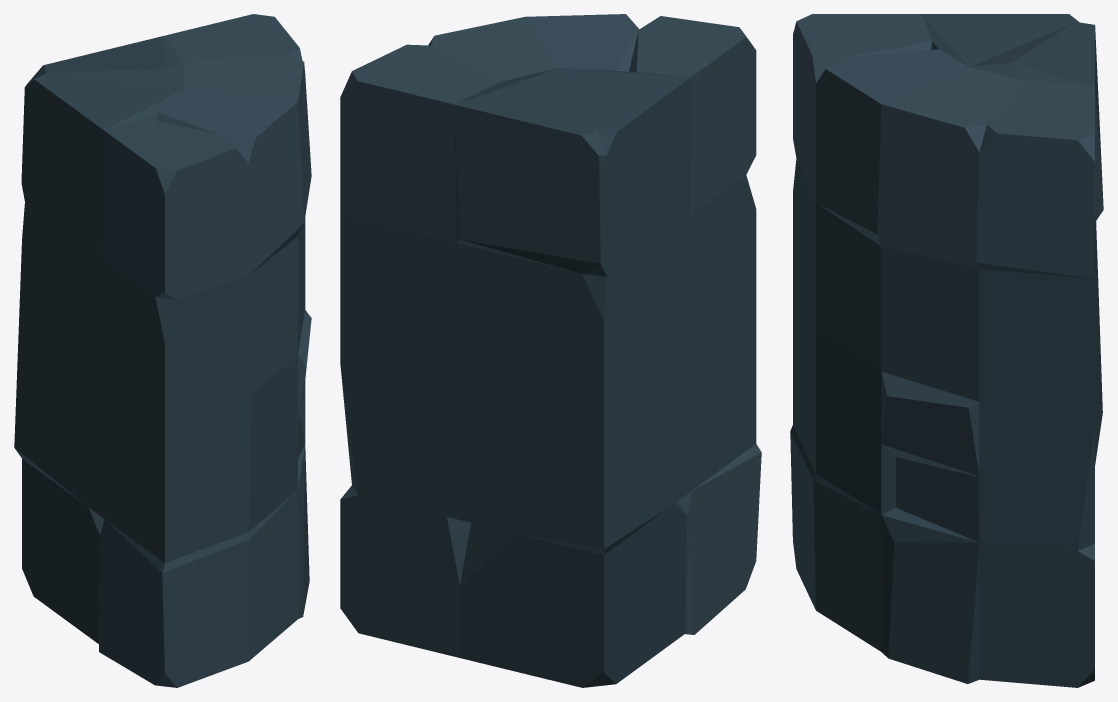
File: level_element_round_corner_4x2x2_conv.fbx
3 views of the same model, side by side, from view 1: azimuth 30°, elevation 25°; view 2: azimuth 150°, elevation 25°; view 3: azimuth 270°, elevation 25° (orthographic). The views are drawn at different scales.
Visible parts, largest first — view 1: level_element_round_corner_4x2x2_conv; view 2: level_element_round_corner_4x2x2_conv; view 3: level_element_round_corner_4x2x2_conv.
Part boxes in pixels (x1,y1,x2,y2): level_element_round_corner_4x2x2_conv: [14, 14, 311, 687]; level_element_round_corner_4x2x2_conv: [340, 14, 761, 687]; level_element_round_corner_4x2x2_conv: [790, 14, 1103, 687].
Bounding box in the file's own units: 203 × 408 × 207.
